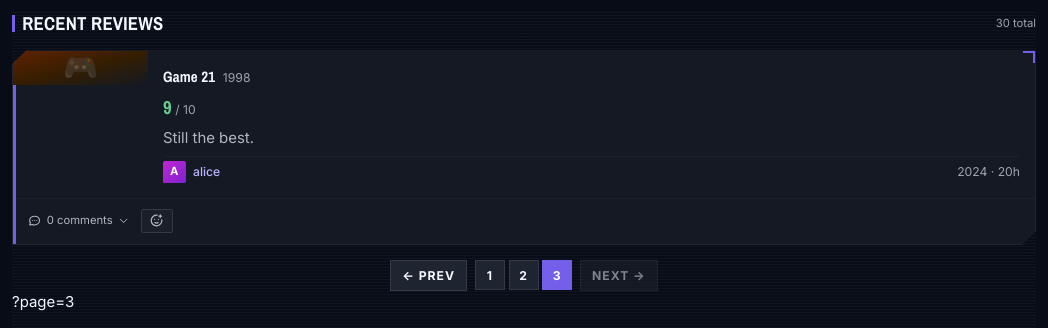
Test: the recent reviews pagination › leaves page one as the bare URL, so it is not a history entry
Expected: the link "Game 21" is shown, [163,66,215,88]
What coordinates should you click on to do the following:
click the button "1"
I would click on:
 (490, 275)
Its box is [475,260,505,290].
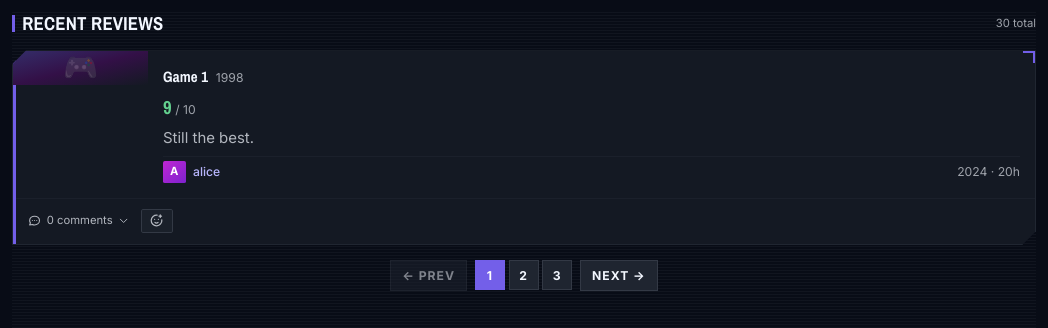
Now the link "Game 1" is shown, box [163,66,208,88]
